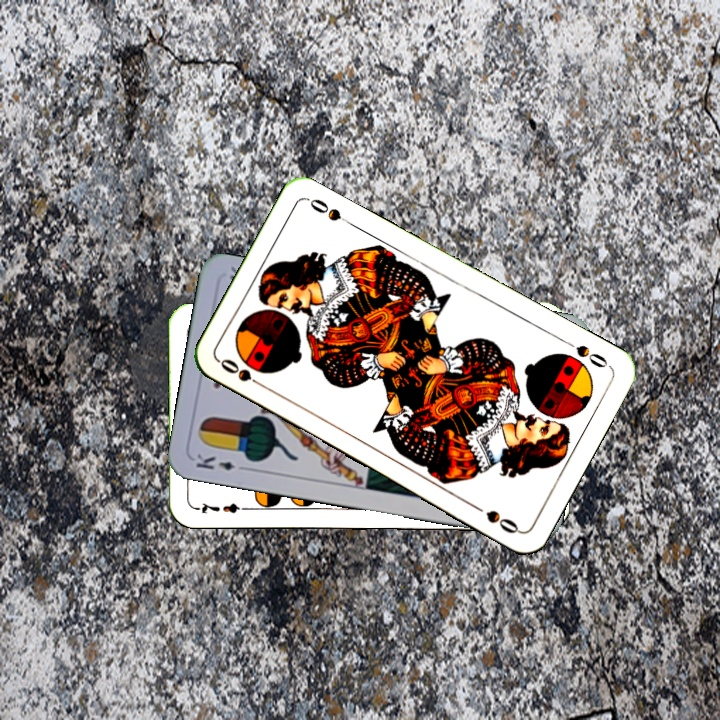E7: (194, 498, 253, 516)
EK: (192, 450, 251, 474)
SO: (216, 354, 270, 392), (558, 335, 613, 371)
